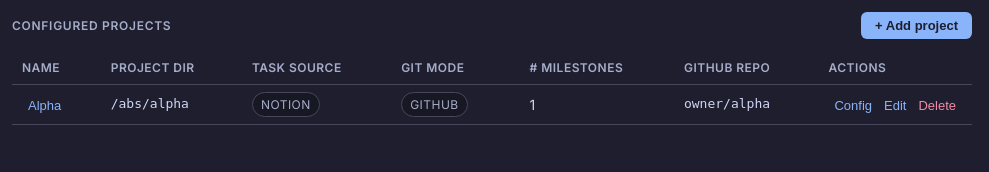
Test: ProjectsSettingsPanel › clicking a project name drills into its milestones sub-panel
Step 1. Click the button with aria-label "Open milestones for Alpha" → point(45, 105), box [22, 96, 67, 115]
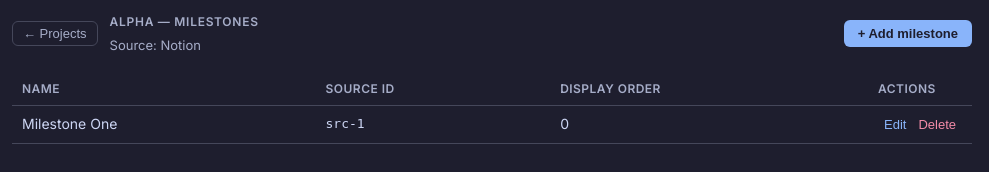
Now the text "Milestone One" is shown, box [12, 106, 316, 143]
Now the heading "Alpha — Milestones" is shown, box [110, 14, 259, 29]
